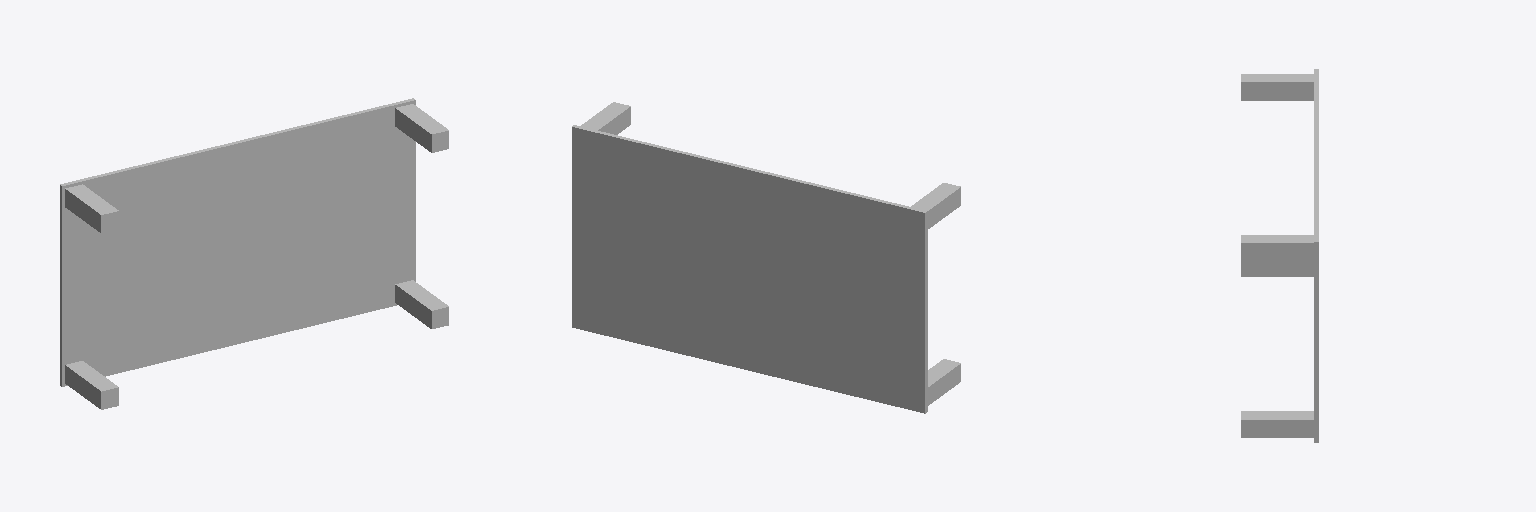
File: random_table34.obj
3 renders of one model, left to right at view 1: azimuth 30°, elevation 25°; view 2: azimuth 150°, elevation 25°; view 3: azimuth 270°, elevation 25°, orthographic.
Parts seen in each view (by area): view 1: Table_Cube.365, TableLeg1_Cube.367, TableLeg0_Cube.366, TableLeg2_Cube.368, TableLeg3_Cube.369; view 2: Table_Cube.365, TableLeg1_Cube.367, TableLeg3_Cube.369, TableLeg0_Cube.366; view 3: TableLeg0_Cube.366, TableLeg1_Cube.367, TableLeg2_Cube.368, Table_Cube.365, TableLeg3_Cube.369.
Boxes of the visible parts, box(x1,y1,x2,y2) form: Table_Cube.365: box(60, 98, 415, 386); TableLeg1_Cube.367: box(65, 184, 118, 233); TableLeg0_Cube.366: box(395, 104, 448, 152); TableLeg2_Cube.368: box(395, 280, 448, 328); TableLeg3_Cube.369: box(65, 361, 118, 409); Table_Cube.365: box(572, 125, 927, 413); TableLeg1_Cube.367: box(911, 183, 960, 228); TableLeg3_Cube.369: box(928, 359, 960, 405); TableLeg0_Cube.366: box(581, 102, 630, 134); TableLeg0_Cube.366: box(1241, 235, 1313, 261); TableLeg1_Cube.367: box(1241, 74, 1313, 100); TableLeg2_Cube.368: box(1241, 411, 1313, 437); Table_Cube.365: box(1314, 69, 1318, 442); TableLeg3_Cube.369: box(1241, 262, 1313, 276).
Size of the model in its own units: 11.67 by 6.33 by 2.23.